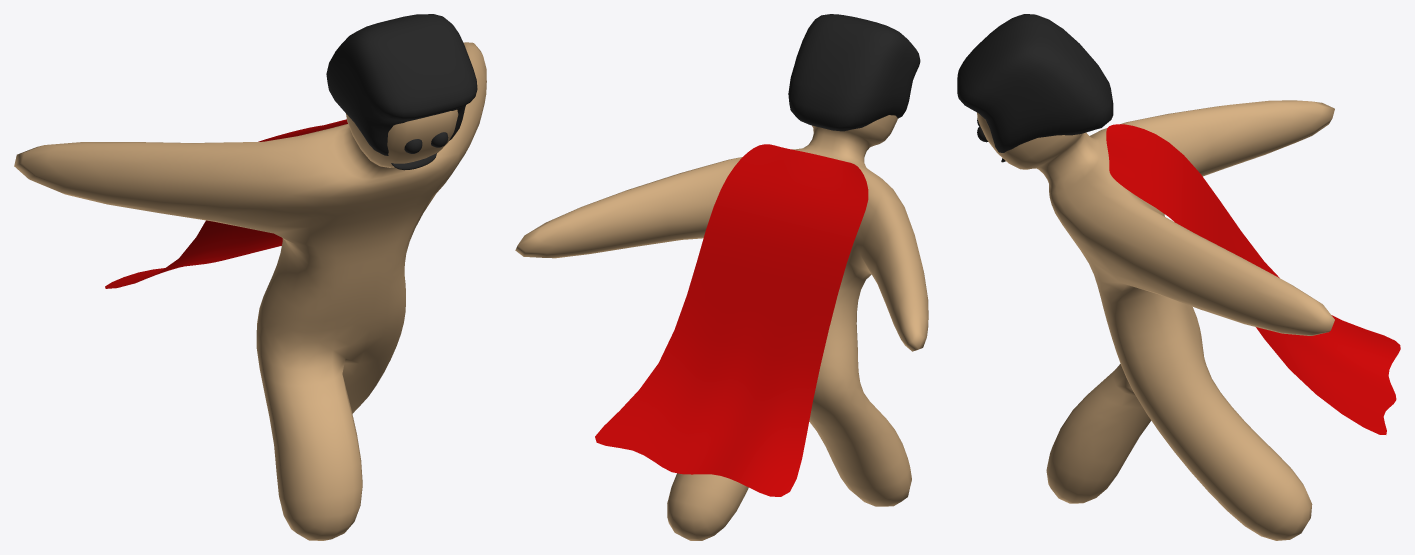
The model's file is Char01TEST.fbx.
The picture shows the model from 3 angles, left to right: view 1: azimuth 30°, elevation 25°; view 2: azimuth 150°, elevation 25°; view 3: azimuth 270°, elevation 25°; orthographic projection. The views are drawn at different scales.
Visible parts, largest first — view 1: Cube; view 2: Cube; view 3: Cube.
Part boxes in pixels (<box>): Cube: <box>14,14,486,540</box>; Cube: <box>515,14,928,540</box>; Cube: <box>957,14,1400,540</box>.
Bounding box in the file's own units: 10.02 × 10.78 × 8.71.
